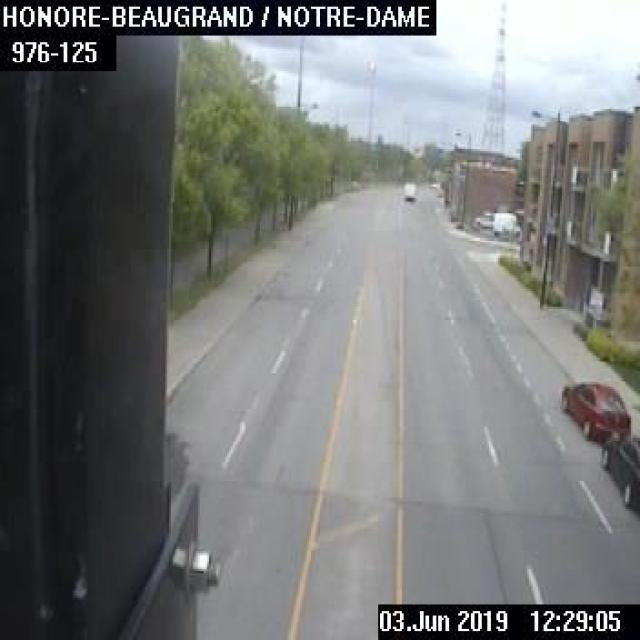vehicle: (560, 380, 630, 440), (599, 434, 638, 514), (402, 180, 414, 200)
